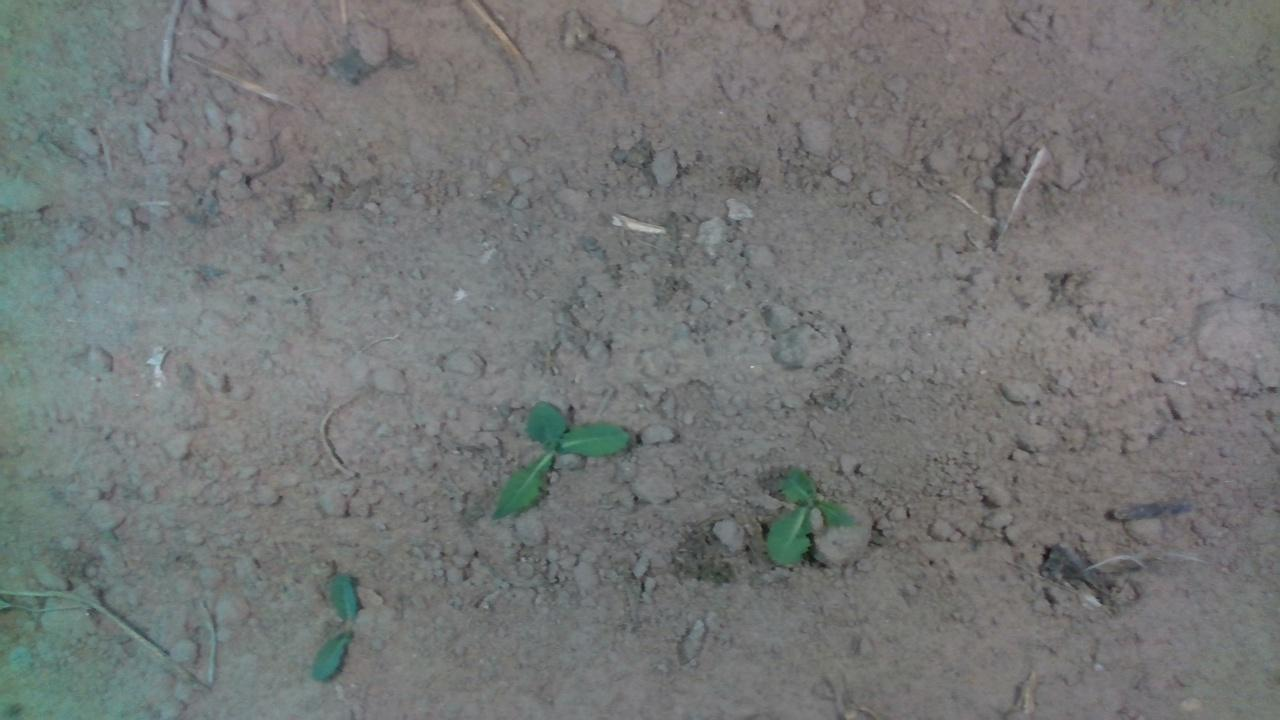weed: (487, 397, 629, 520), (764, 463, 855, 568), (308, 570, 359, 682)
